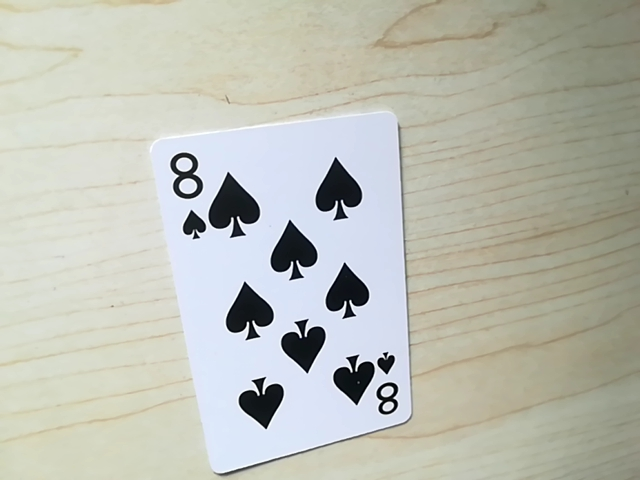ht 8: (160, 140, 215, 243), (366, 361, 404, 426)
